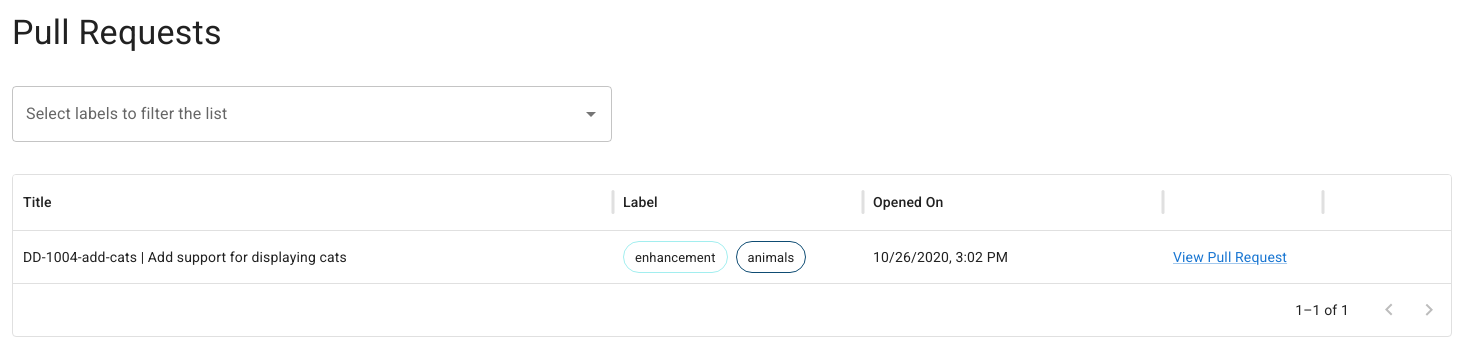
Test: Pull Requests › should filter table
Expected: the text "DD-1004-add-cats | Add support for displaying cats" is shown, [23,249,347,265]
Type "animals" into the dropdown at coordinates (297, 114), box [21,95,573,133]
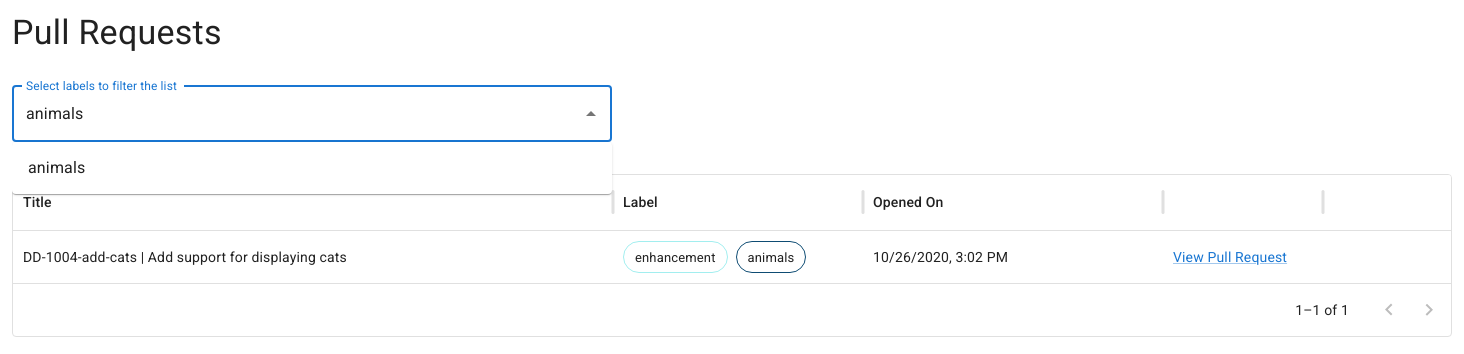
Press ArrowDown in the element with test id "auto-complete", box [12,86,612,142]
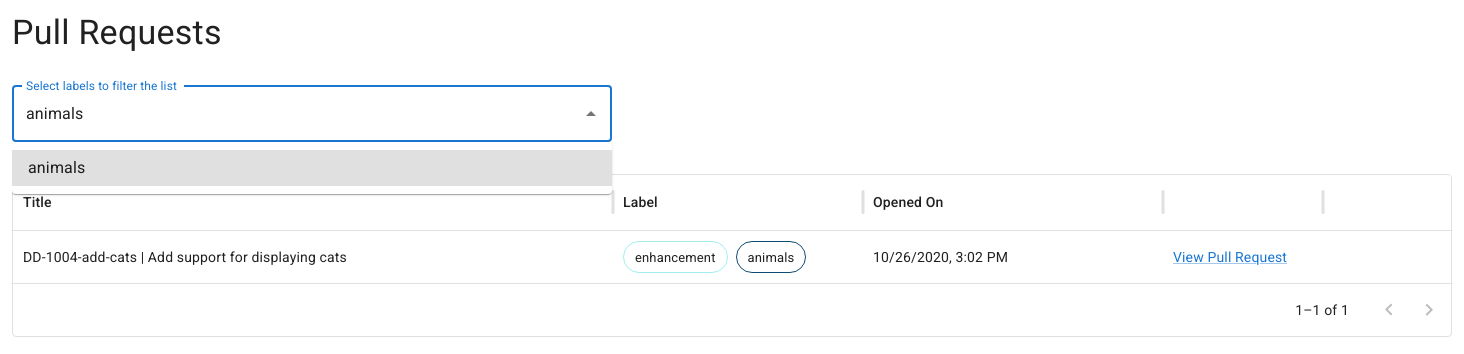
Press Enter in the element with test id "auto-complete", box [12,86,612,142]
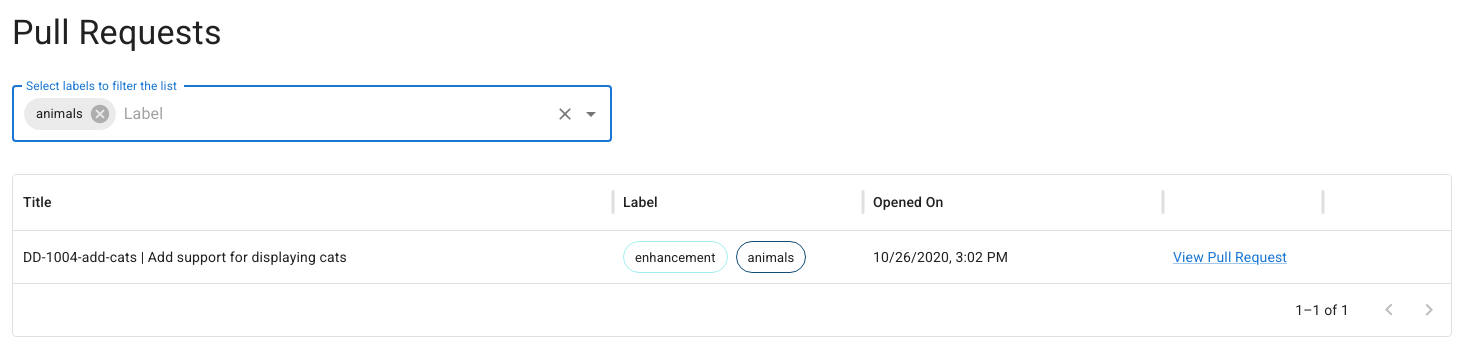
Now the number of buttons with test id "selected-label" is 1, box [24,98,116,130]
